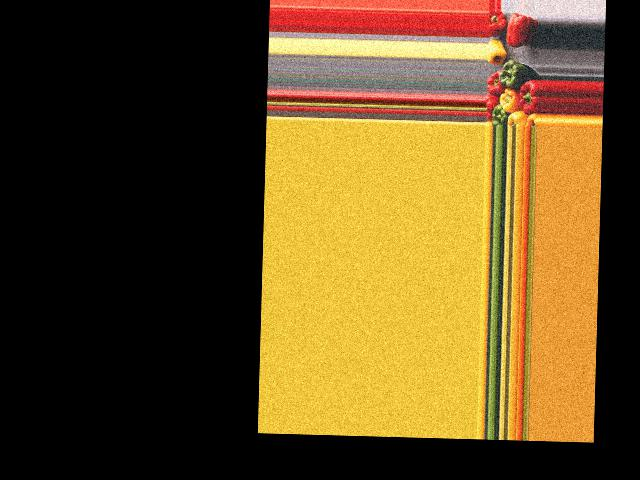bell_pepper: (490, 10, 506, 37)
